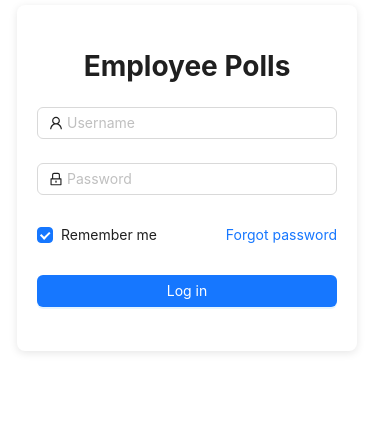
Login Component › should display an error message when login fails
Note: Simulate user input
In the field with placeholder "Username": (196, 122) left=67, top=112, right=325, bottom=134, type "wronguser"
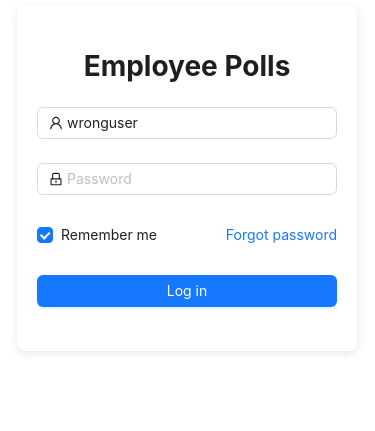
In the password field with placeholder "Password": (196, 178) left=67, top=168, right=325, bottom=190, type "wrongpassword"
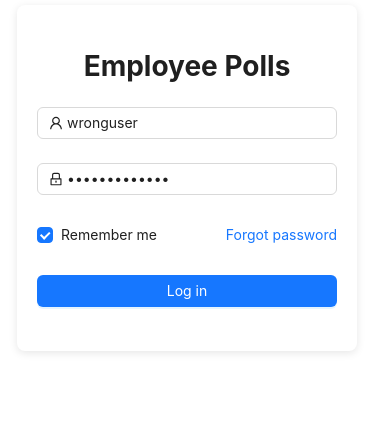
Note: Simulate form submission
Click the button "Log in": (187, 290) left=37, top=274, right=337, bottom=306
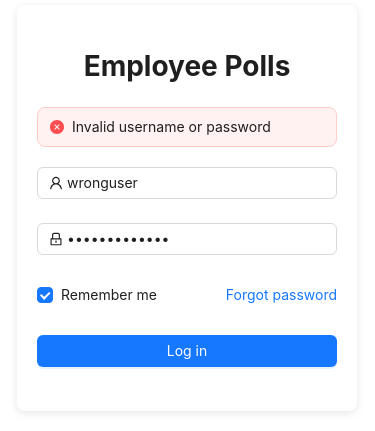
Expected: the text "Invalid username or password" is shown, left=72, top=118, right=271, bottom=134
